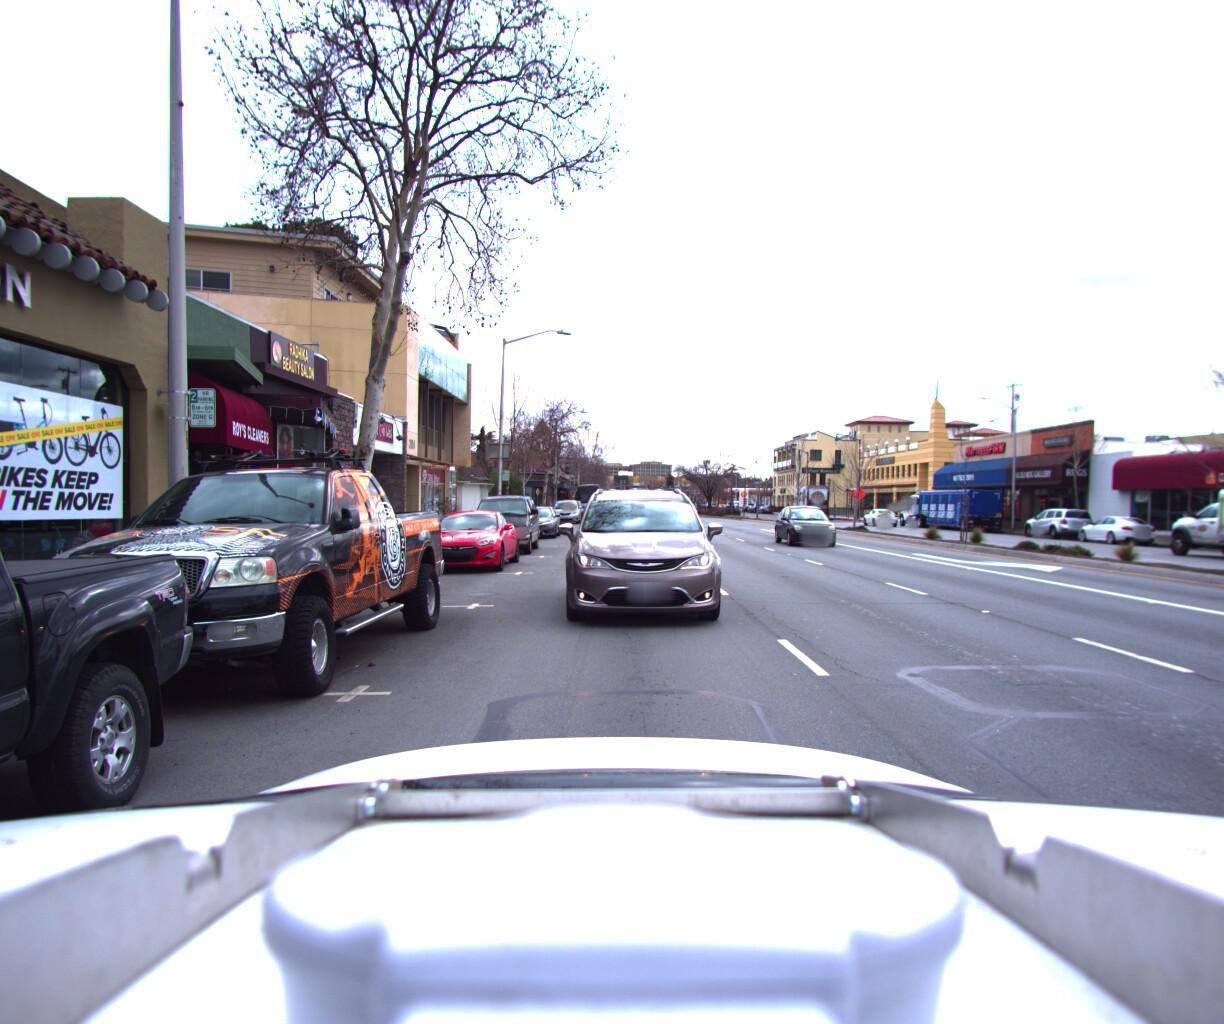car: (0, 420, 463, 735), (552, 470, 727, 638), (413, 499, 528, 574), (465, 482, 547, 554), (777, 499, 851, 547), (1073, 508, 1161, 541), (1019, 502, 1100, 535), (513, 496, 564, 537), (551, 491, 583, 521), (859, 503, 898, 523)
truck: (1130, 484, 1224, 565), (896, 487, 1007, 528)
